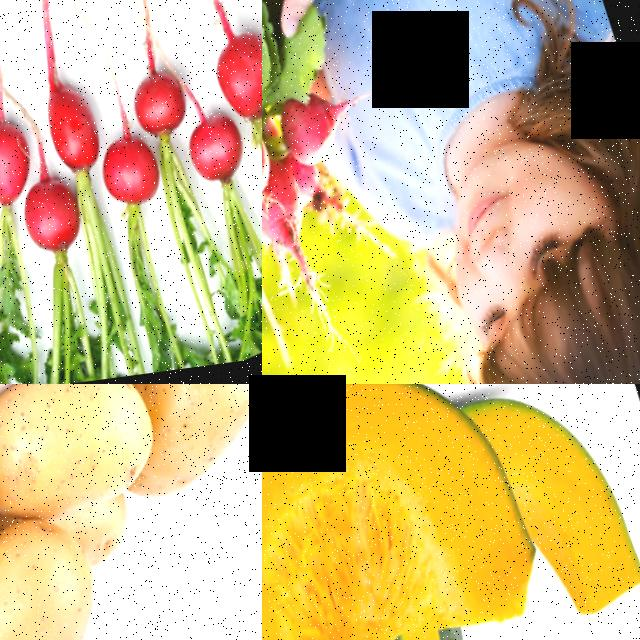potato: (0, 384, 171, 564), (126, 384, 262, 518), (0, 536, 131, 640)
pumpkin: (262, 384, 544, 640), (482, 384, 640, 640)
radishes: (78, 46, 262, 316), (0, 69, 149, 357), (262, 0, 369, 327), (194, 0, 262, 205), (0, 167, 28, 369)
